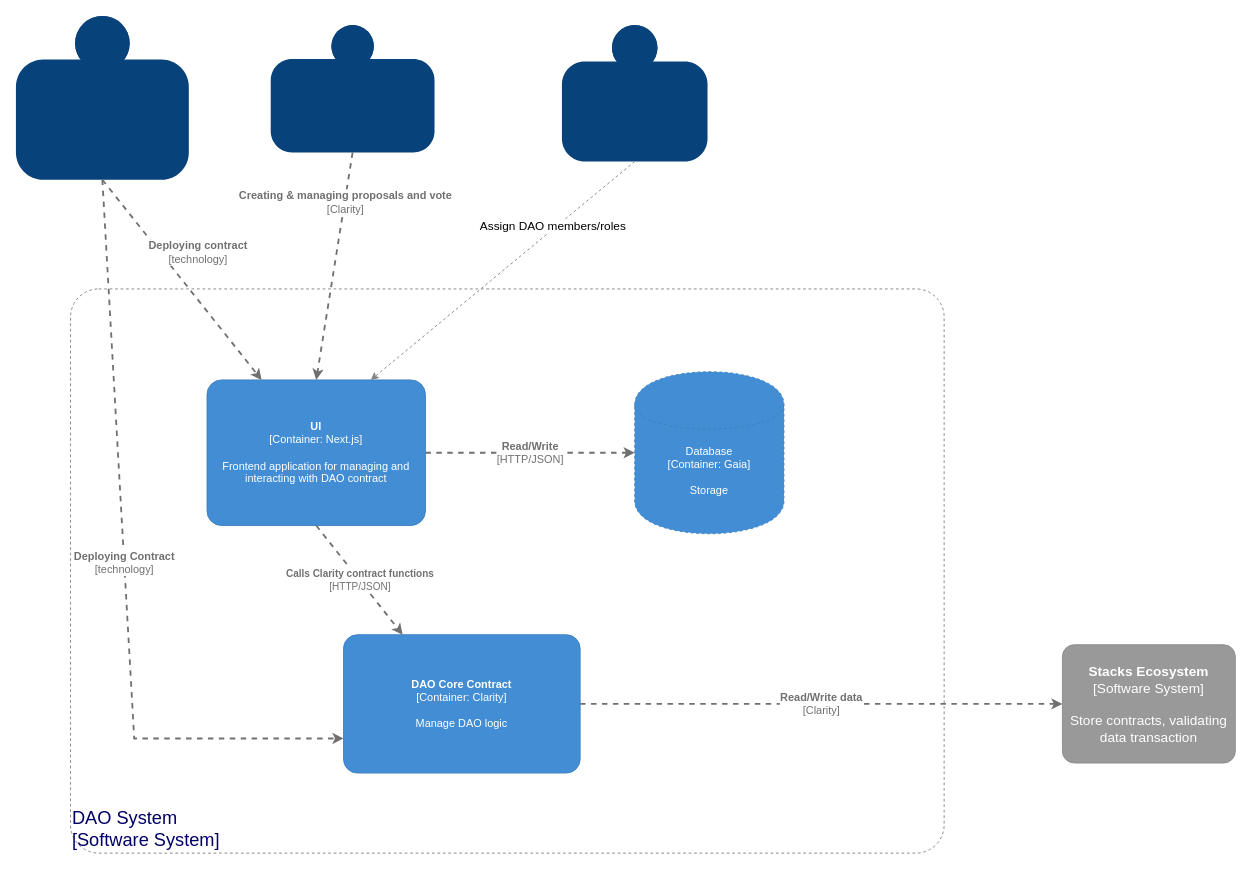
The diagram is 1251 pixels wide and 869 high, and some of its shapes have lost their labels. The shapes that lost their labels are listed below. From the top down, each one's centre as x and y in pixels, then its label:
the point at 101,97: Deployer [Person] Person or group who deploys and setup base contract settings
the point at 352,88: Member [Person] DAO member
the point at 634,93: DAO Voting Member [Person] Voting Member
